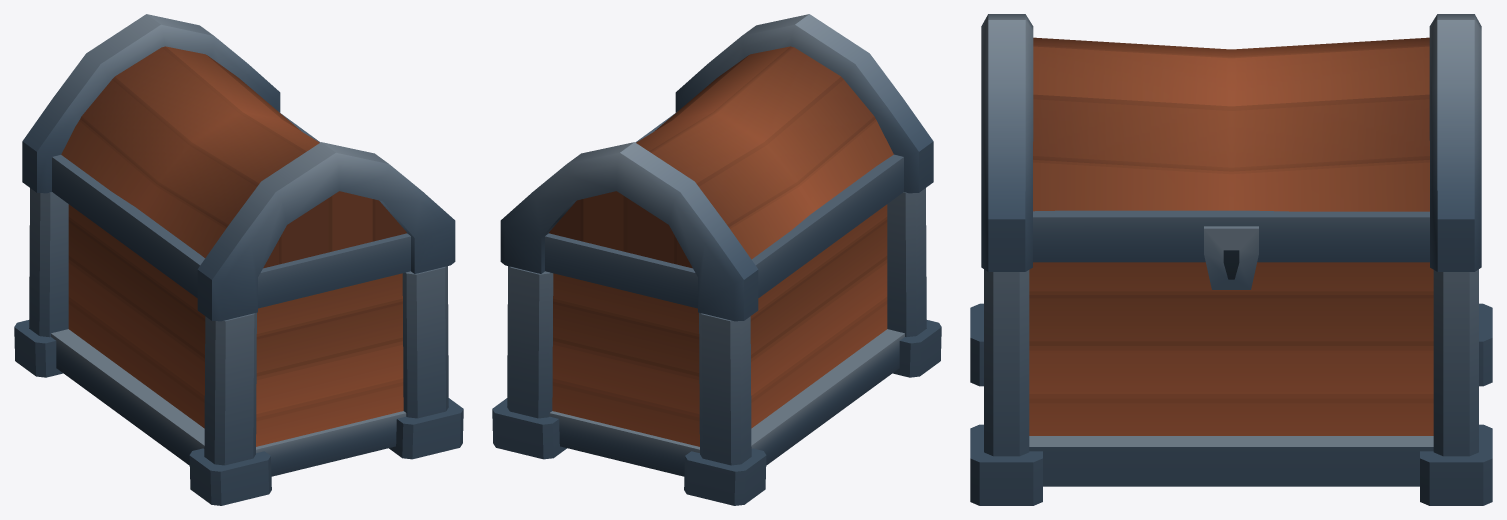
The model's file is Treasure.fbx.
3 renders of one model, left to right at view 1: azimuth 30°, elevation 25°; view 2: azimuth 150°, elevation 25°; view 3: azimuth 270°, elevation 25°, orthographic. The views are drawn at different scales.
Parts seen in each view (by area): view 1: Treasure.001, Treasure_lid.001; view 2: Treasure.001, Treasure_lid.001; view 3: Treasure.001, Treasure_lid.001.
Part boxes in pixels (left/top/right/bottom): Treasure.001: left=14, top=188, right=463, bottom=505; Treasure_lid.001: left=22, top=14, right=455, bottom=321; Treasure.001: left=492, top=188, right=941, bottom=505; Treasure_lid.001: left=500, top=14, right=933, bottom=321; Treasure.001: left=970, top=262, right=1492, bottom=505; Treasure_lid.001: left=981, top=14, right=1481, bottom=289.
Size of the model in its own units: 0.4853 by 0.583 by 0.6757.
